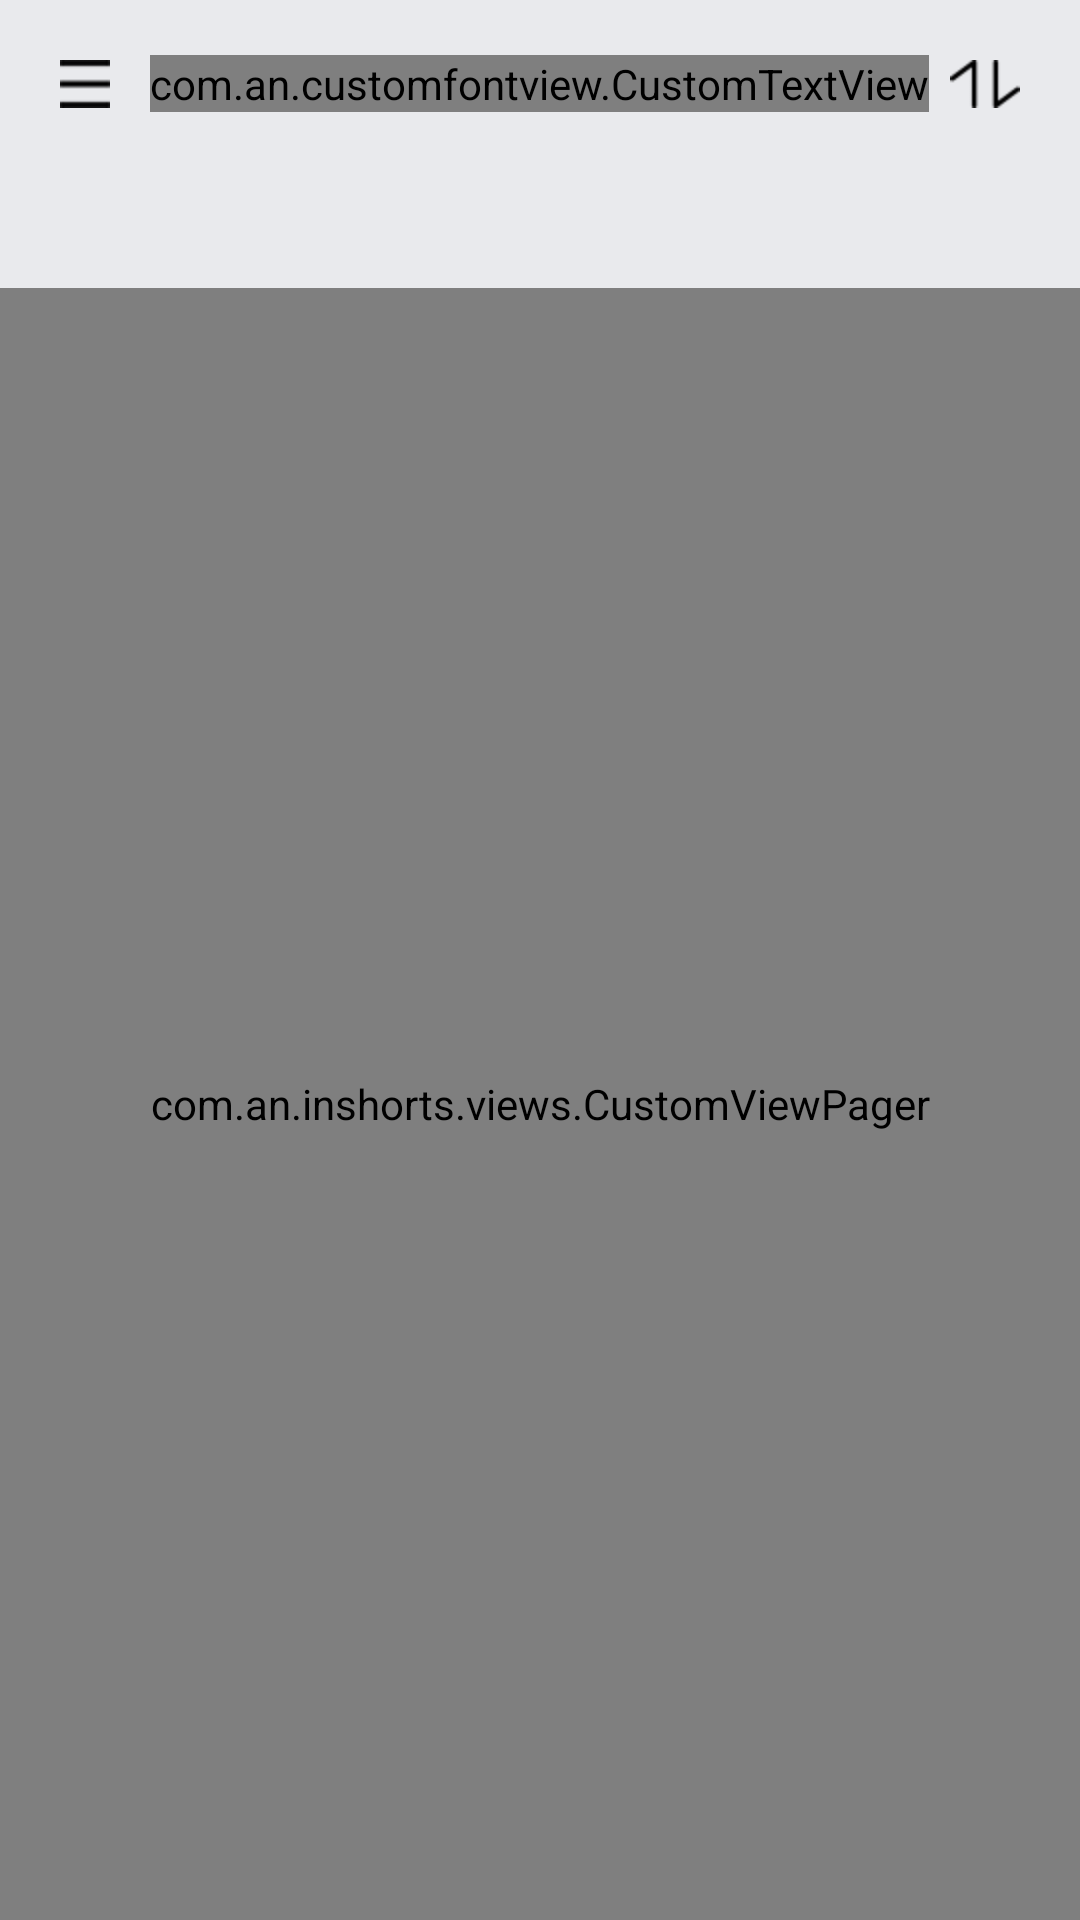

Icons on this 1080px×1920px Android screen, each with its box as bbox=(x1, y1, x2, y2):
side menu: bbox=(60, 60, 110, 108)
sort: bbox=(950, 60, 1020, 108)
